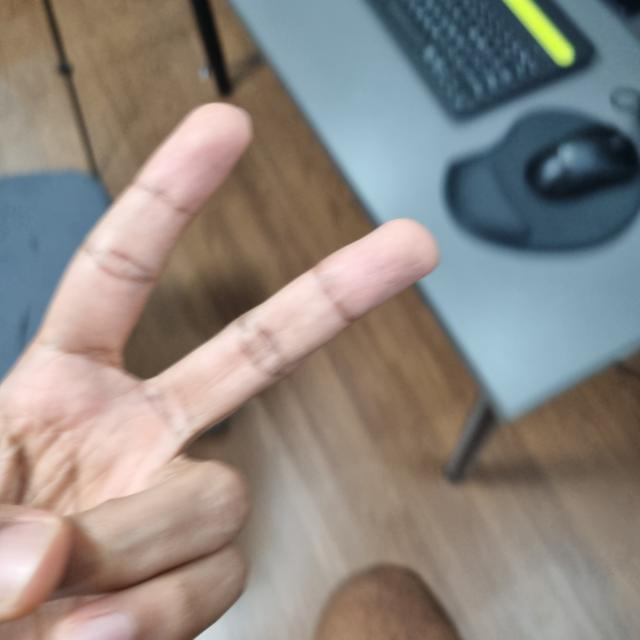Scissors: (0, 103, 431, 640)
